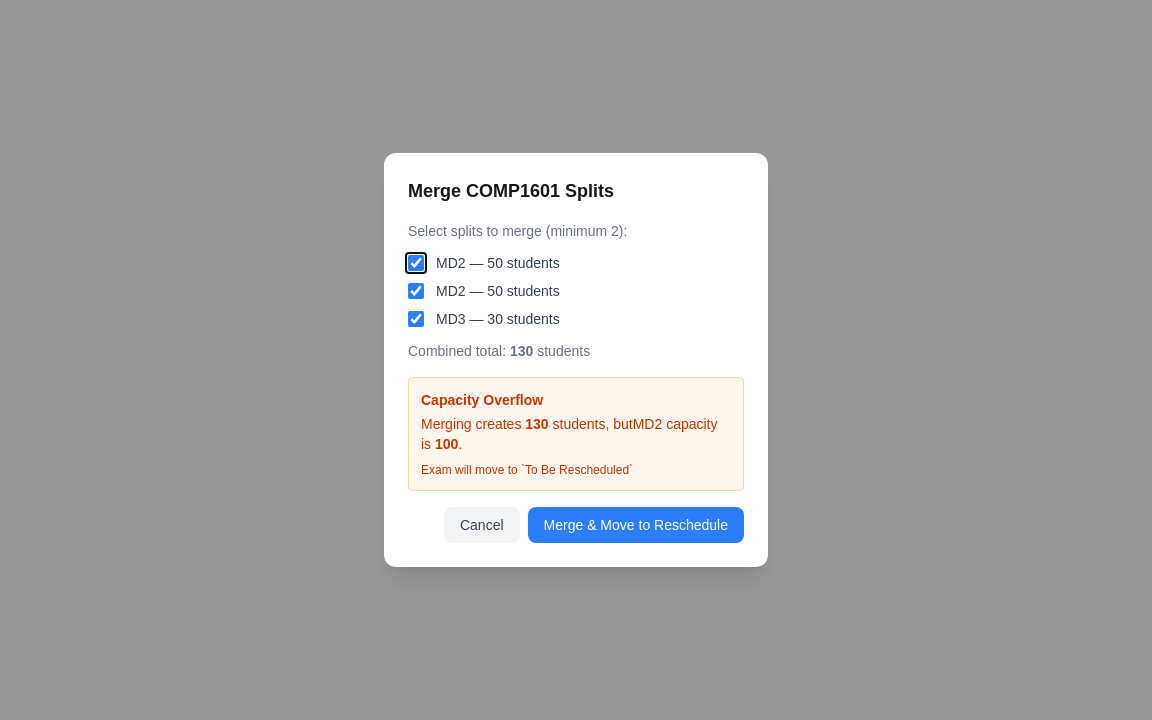
Test: MergeExamDialog › should disable confirm when fewer than 2 splits selected
Click the 1st checkbox labelled "MD2 — 50 students" at coordinates (416, 263), box [408,255,424,271]
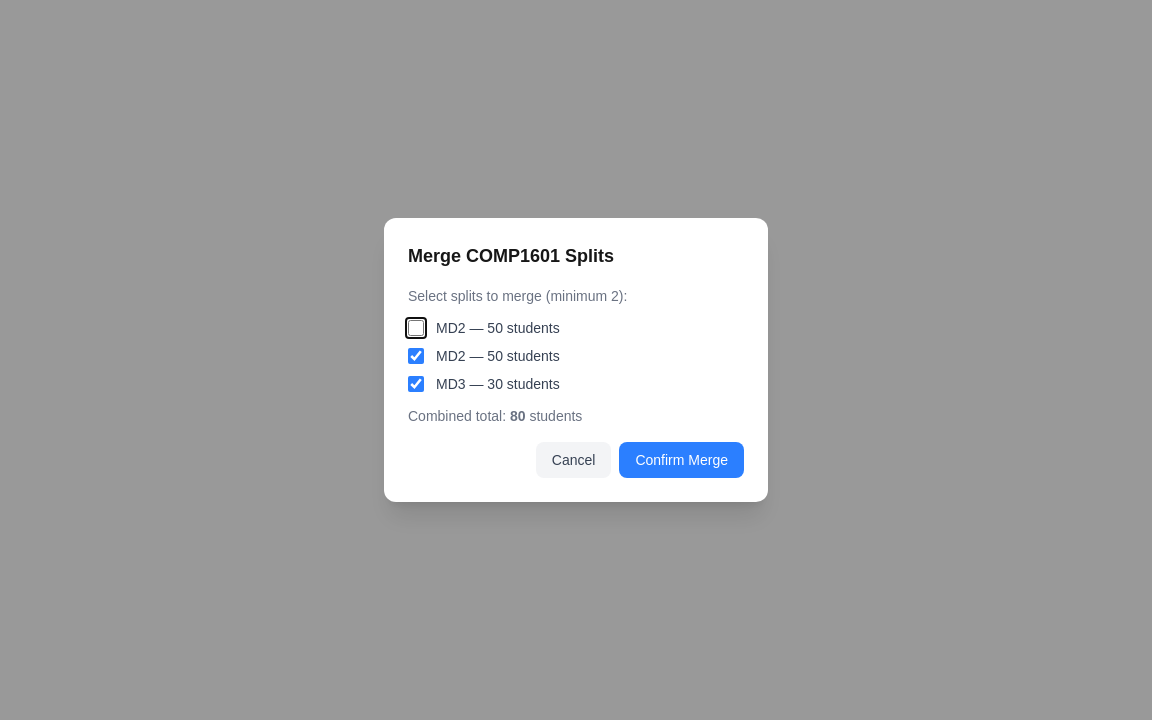
Click the 2nd checkbox labelled "MD2 — 50 students" at coordinates (416, 356), box [408,348,424,364]
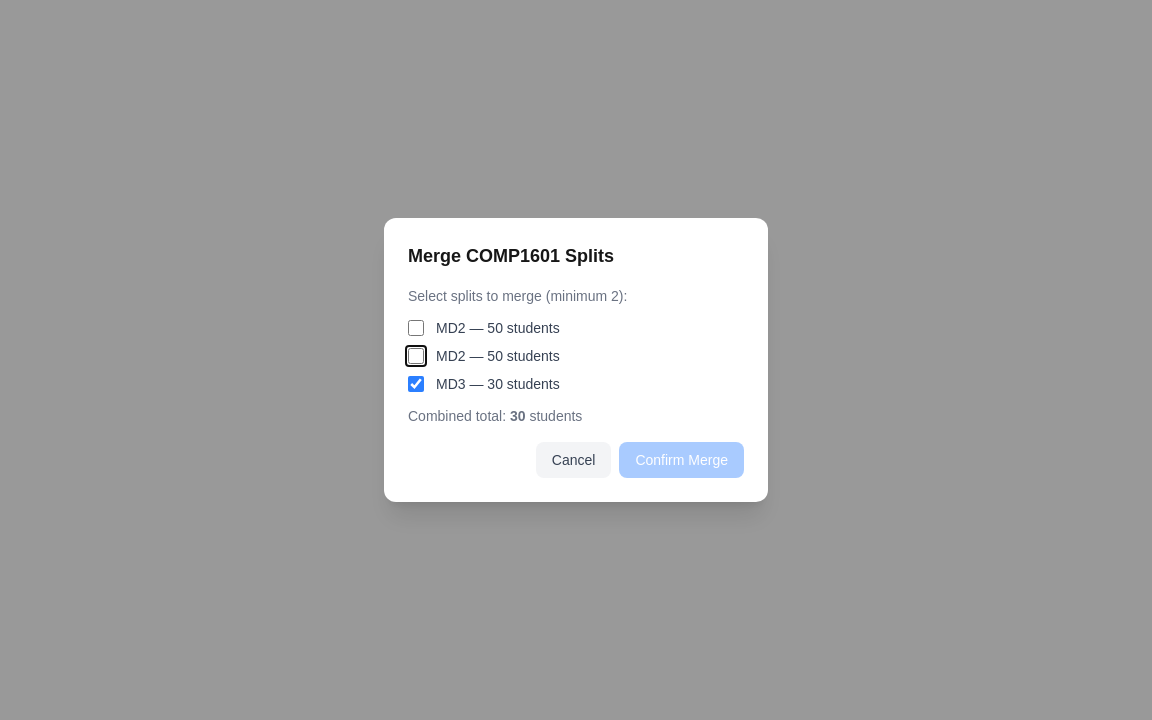
Expected: the button "Confirm Merge" is disabled, [619,442,744,478]
